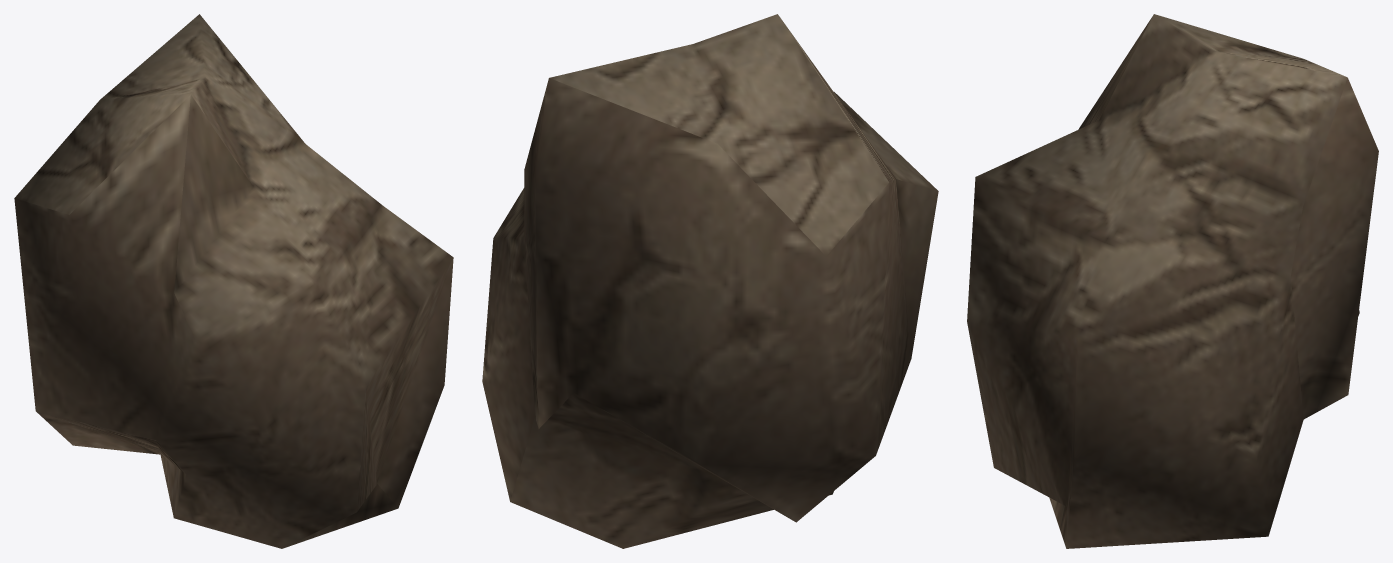
File: shanti01.FBX
3 renders of one model, left to right at view 1: azimuth 30°, elevation 25°; view 2: azimuth 150°, elevation 25°; view 3: azimuth 270°, elevation 25°, orthographic. The views are drawn at different scales.
Visible parts, largest first — view 1: Group29198; view 2: Group29198; view 3: Group29198.
Part boxes in pixels (x1,y1,x2,y2): Group29198: (14, 14, 453, 548); Group29198: (482, 14, 938, 548); Group29198: (967, 14, 1378, 548).
Size of the model in its own units: 60.39 by 74.18 by 58.89.
